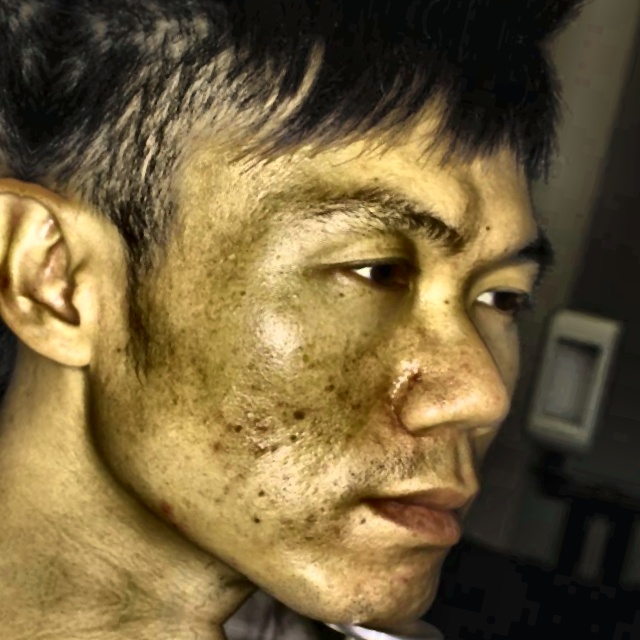comedone: (145, 494, 182, 524), (255, 432, 286, 461), (201, 436, 230, 459)
